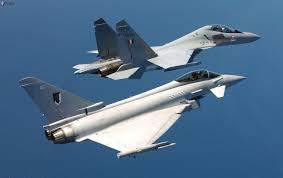maybay_muctieu: (20, 76, 249, 157), (72, 18, 266, 67)
